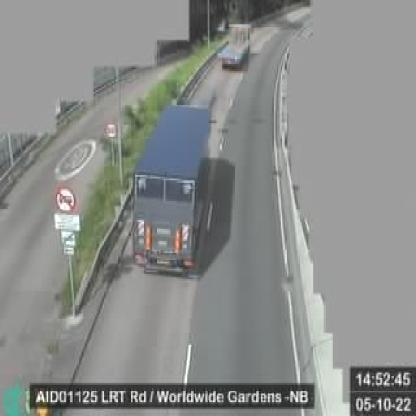Truck: (134, 102, 213, 276), (218, 21, 251, 69)
